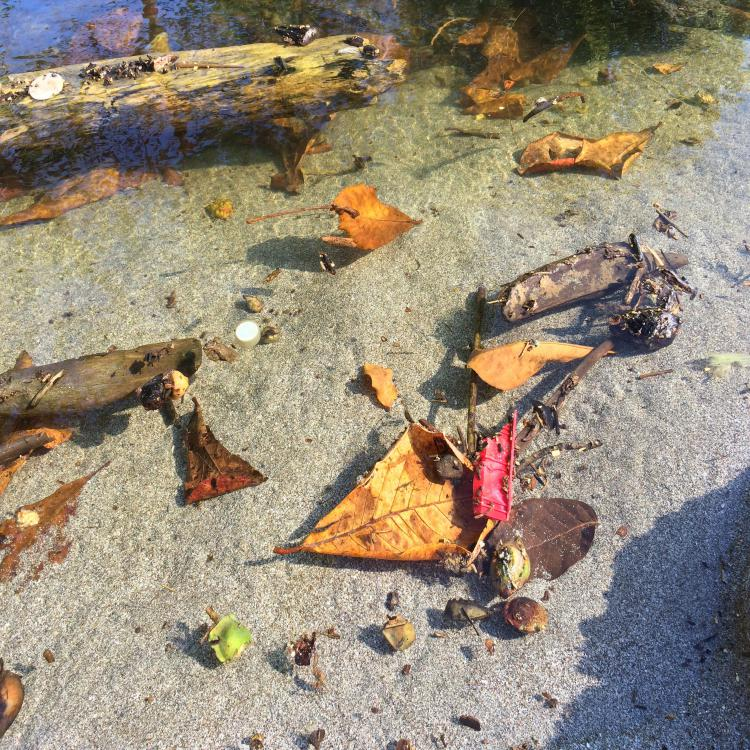Other plastic wrapper: (473, 409, 517, 521)
Plastic bottle cap: (235, 320, 261, 348)
